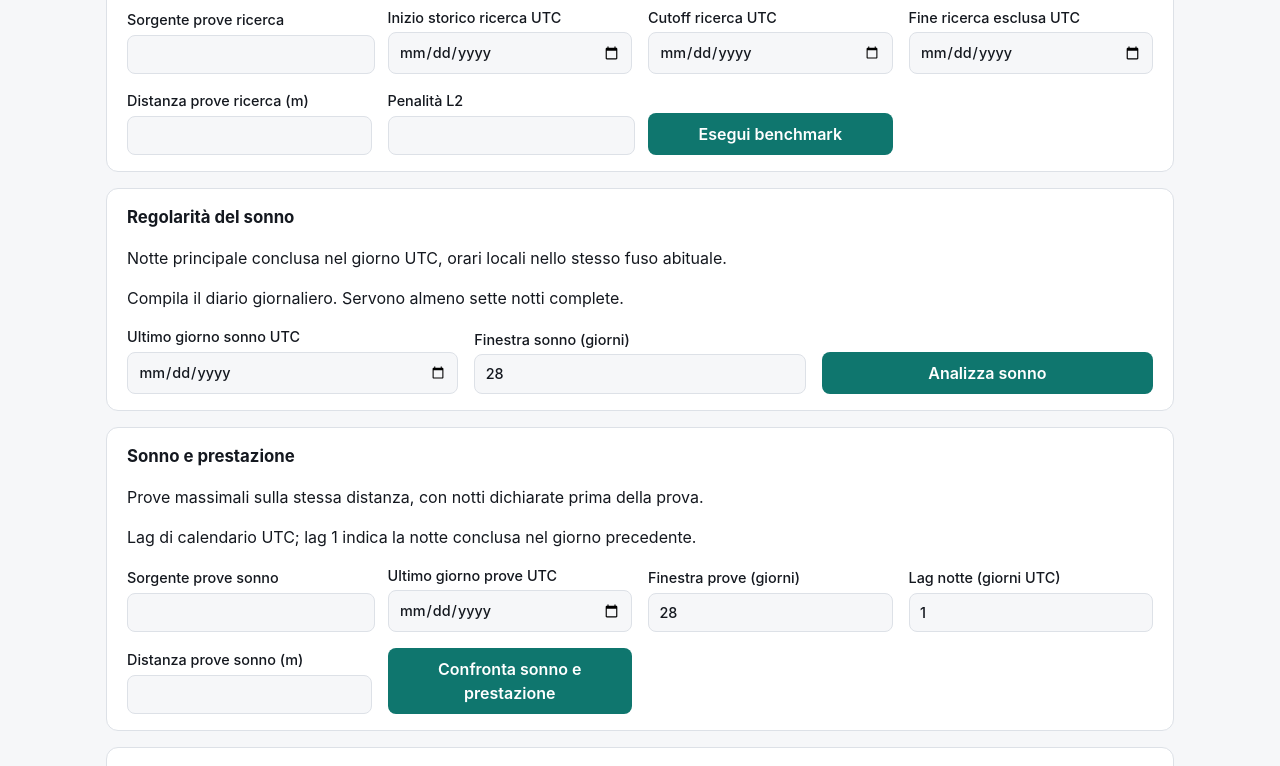
Test case: regolarità sonno › rende orari circolari e giorni mancanti senza imputazione
This screenshot has width=1280, height=766.
(page scrolled)
Type "2026-11-25" into the date field labelled "Ultimo giorno sonno UTC" at [293, 373], box [127,352,458,394]
(page scrolled)
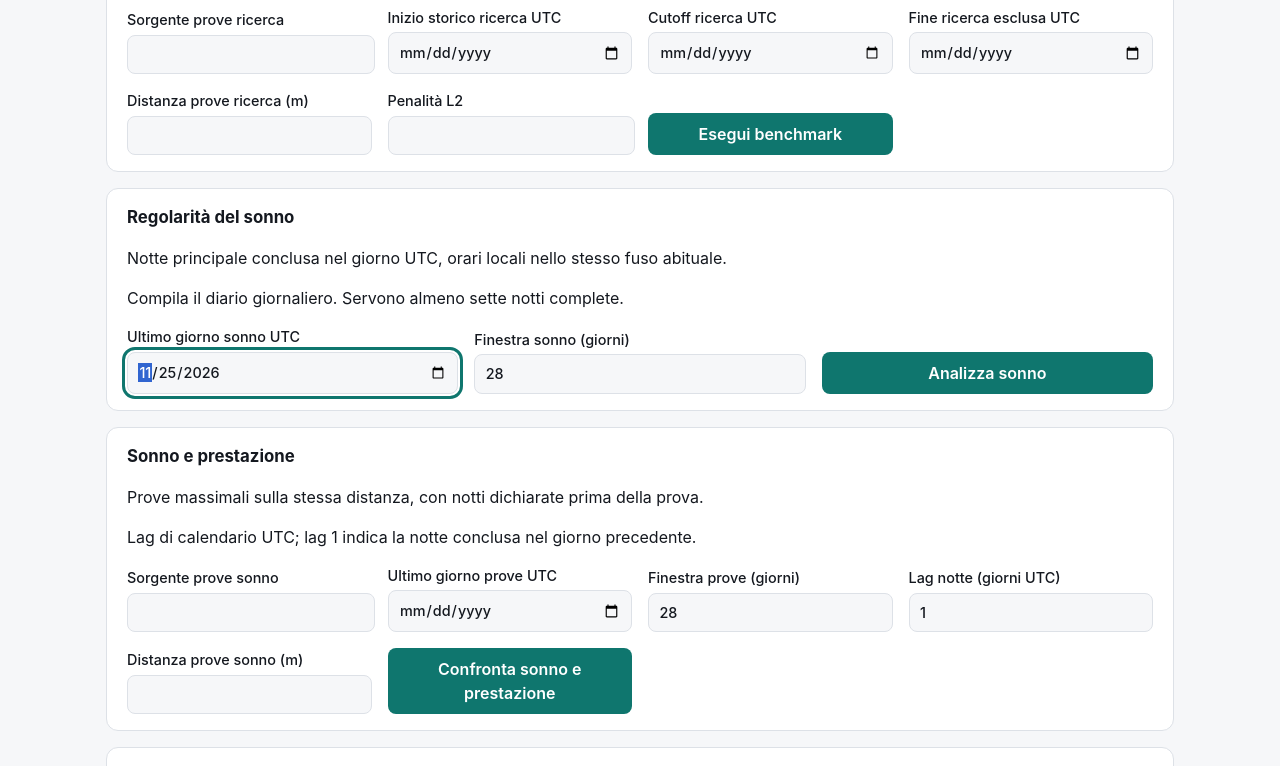
Click the button "Analizza sonno" at [987, 373], box [822,352,1153,394]
(page scrolled)
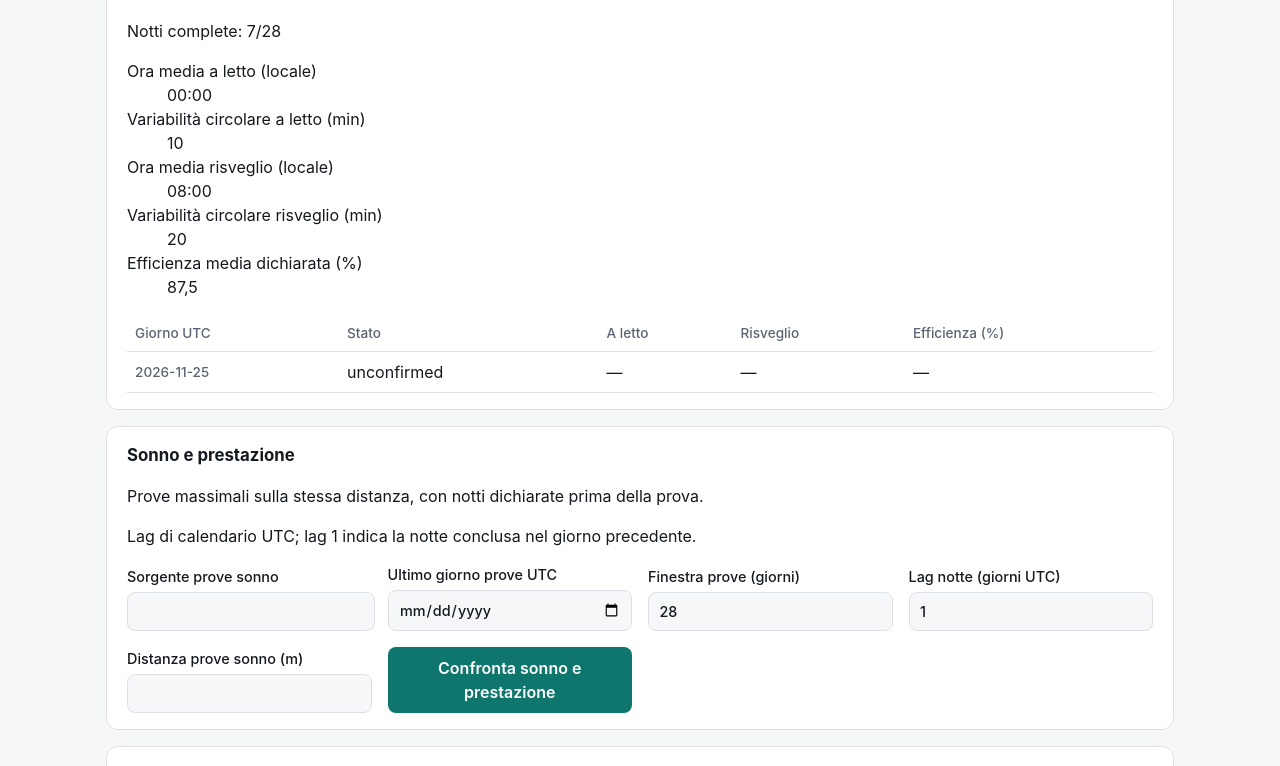
Check: the text "00:00" is shown, box [167,85,212,105]
Check: the text "08:00" is shown, box [167,181,212,201]
Check: the text "87,5" is shown, box [167,277,198,297]
